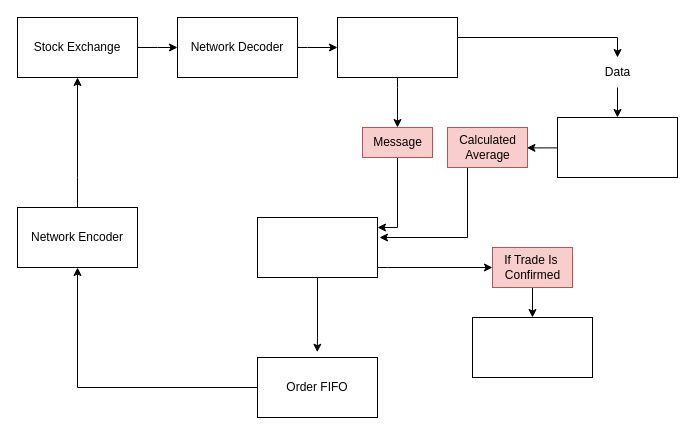
Image size: 695x435. Some labels were removed from this diagram. The box of each missing label's shape, as (x1, y1, x2, y2) in pixels:
Data FIFO: (336, 16, 458, 78)
Data Storage: (472, 316, 592, 378)
SMA Calculation: (556, 116, 678, 178)
Trading Logic: (256, 216, 378, 278)
